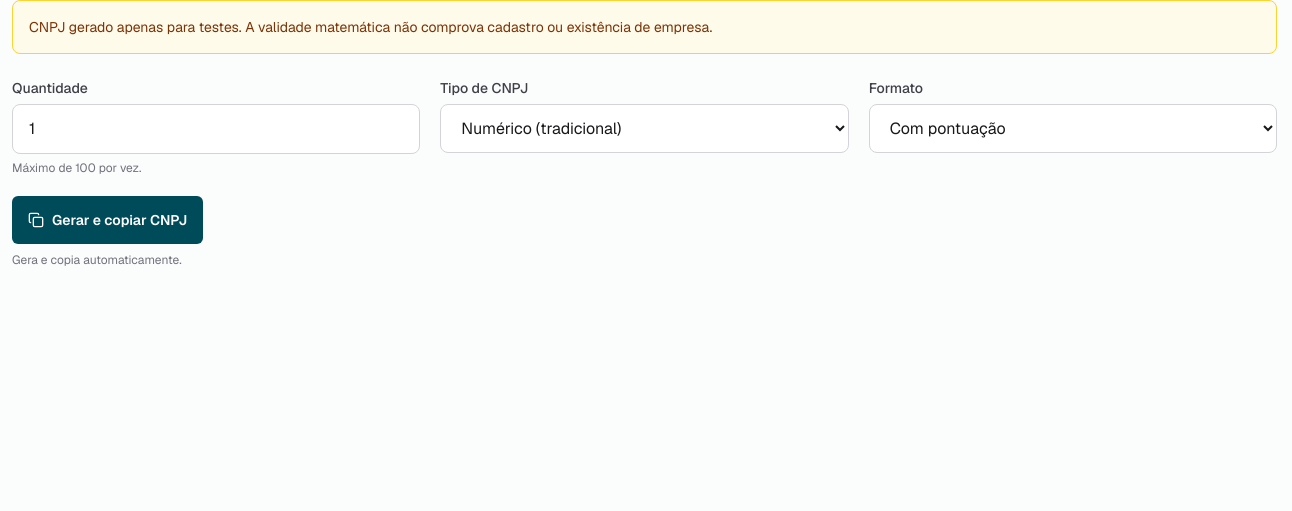
Scenario: CnpjGeneratorTool — gerar + copiar › um clique gera um CNPJ válido e copia exatamente o valor mostrado
Click the button "Gerar e copiar CNPJ".
click(108, 220)  # box [12,196,203,244]
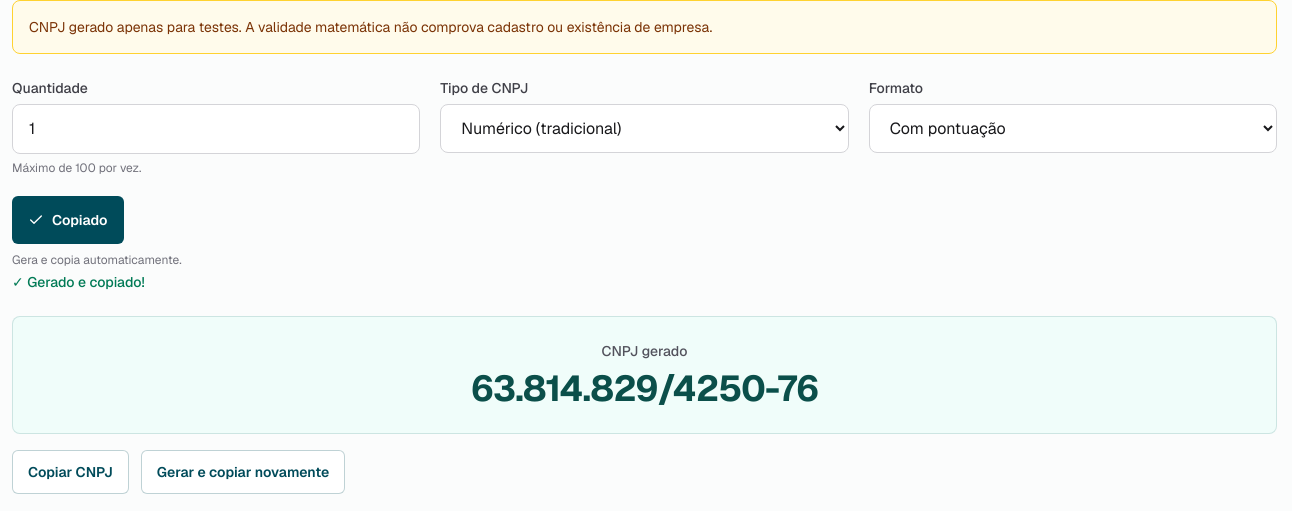
expect the message shows "Gerado e copiado!": met, box [12,273,145,291]
